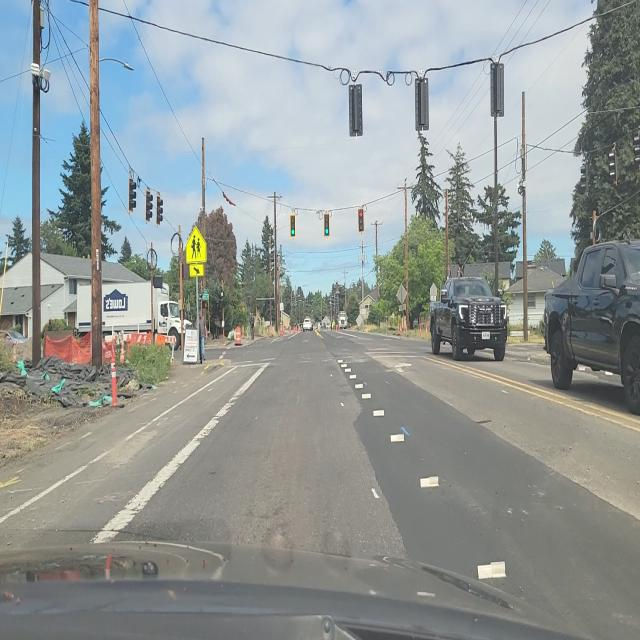car: (541, 237, 639, 412), (2, 330, 29, 349), (338, 313, 347, 330), (302, 318, 312, 333)
crosswalk-sign: (202, 292, 209, 300)
delineator: (186, 226, 207, 276), (110, 362, 119, 409), (119, 334, 125, 364), (418, 324, 423, 340), (269, 328, 273, 337)
